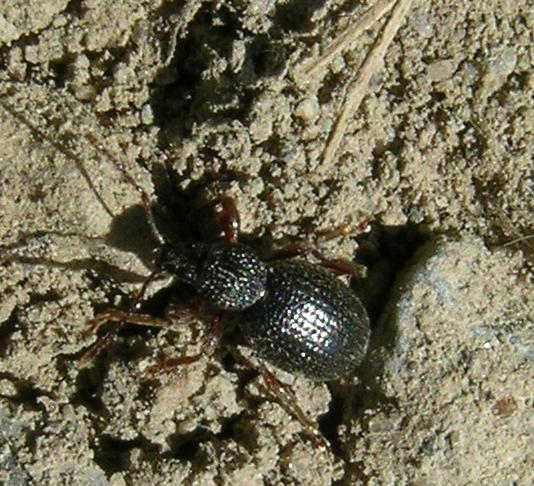weevils: (39, 145, 432, 459)
